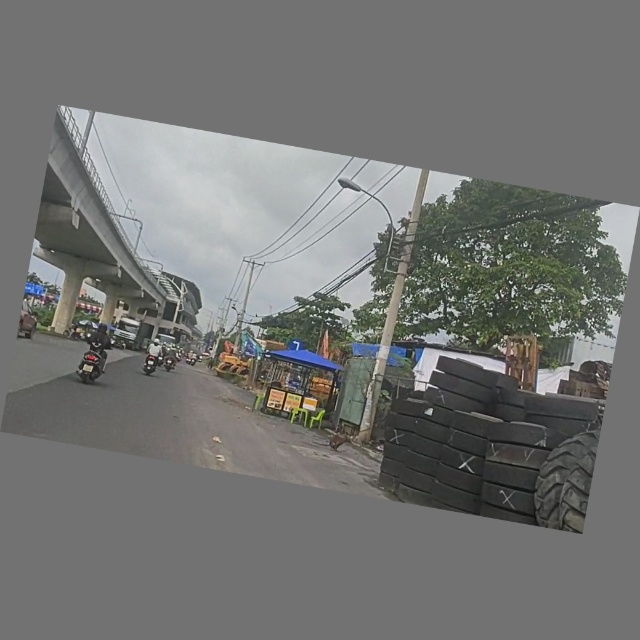R.301e: (287, 339, 304, 354)
